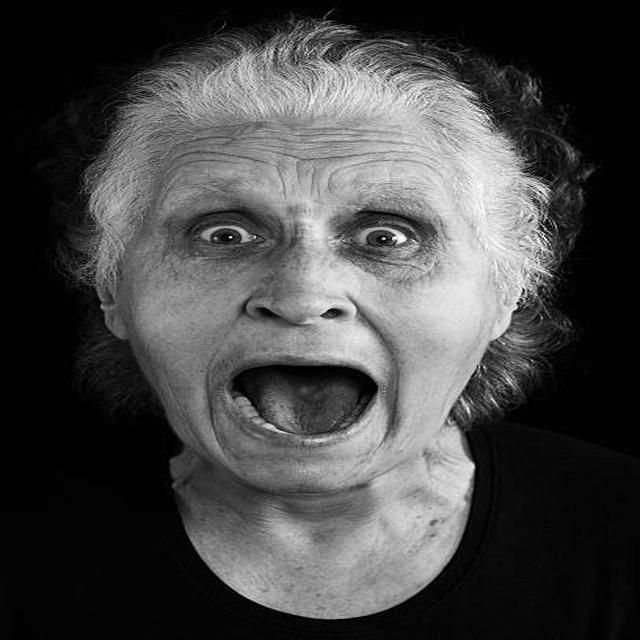Fear: (126, 117, 491, 494)
